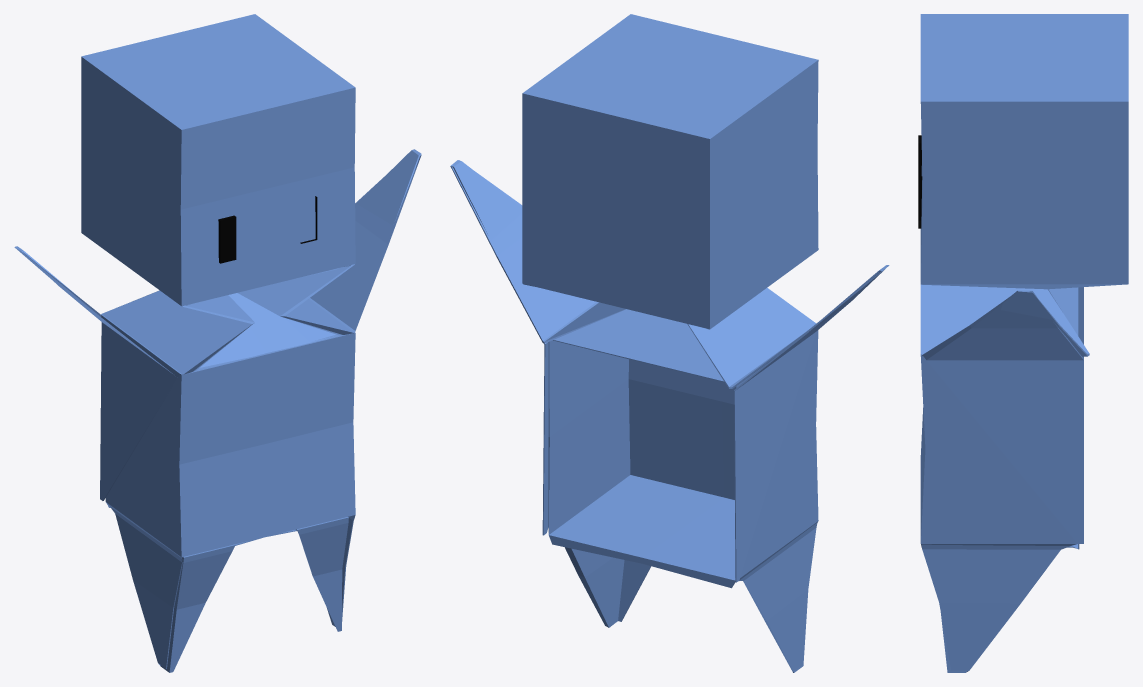
Rendered from boy3.fbx.
3 renders of one model, left to right at view 1: azimuth 30°, elevation 25°; view 2: azimuth 150°, elevation 25°; view 3: azimuth 270°, elevation 25°, orthographic. The views are drawn at different scales.
Visible parts, largest first — view 1: Cube.001; view 2: Cube.001; view 3: Cube.001.
Boxes of the visible parts, x1,y1,x2,y2 form: Cube.001: (14, 14, 421, 672); Cube.001: (450, 14, 889, 672); Cube.001: (918, 14, 1128, 672).
Bounding box in the file's own units: 202 × 607 × 460.
